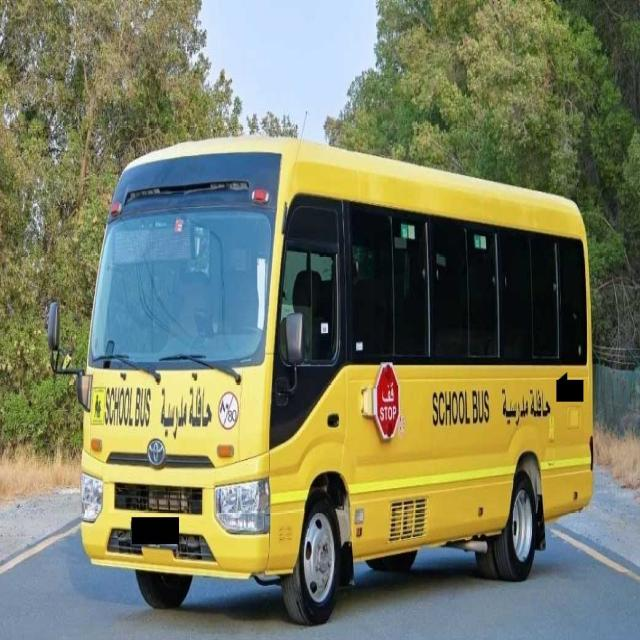bus: (80, 137, 596, 626)
